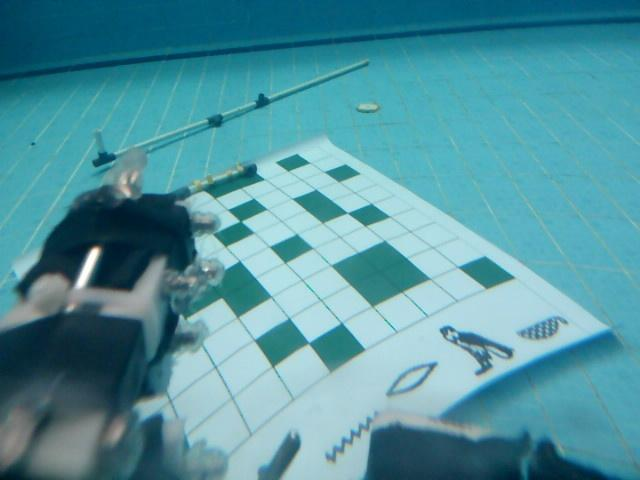Basket: (516, 314, 568, 342)
Mouth: (385, 357, 440, 399)
Owl: (438, 324, 515, 375)
Water: (325, 410, 380, 467)
